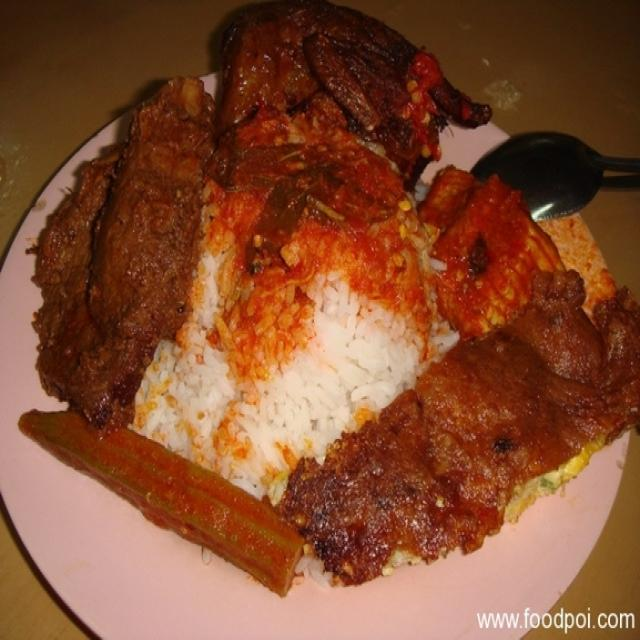米饭主食: (10, 20, 623, 620)
